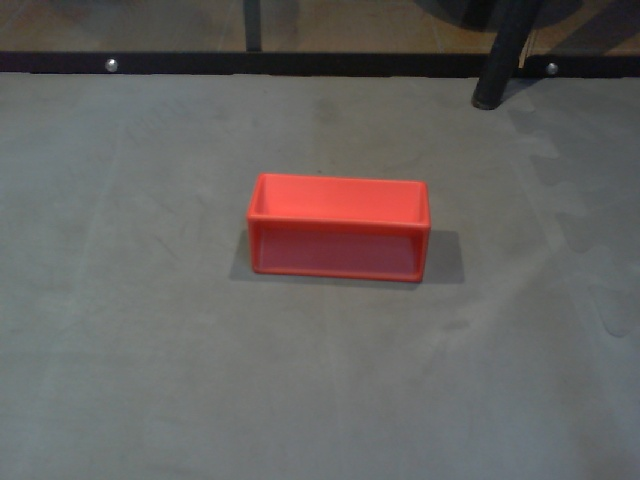RedSample: (246, 172, 431, 284)
